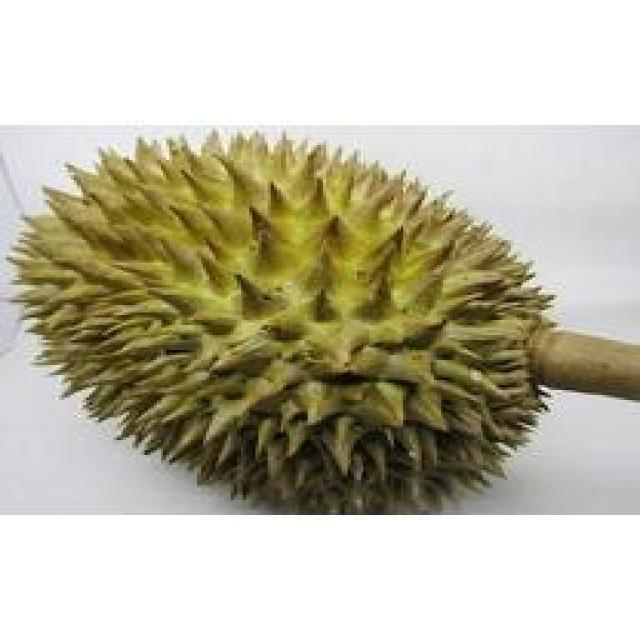fruit: (0, 112, 372, 519), (274, 128, 588, 522)
